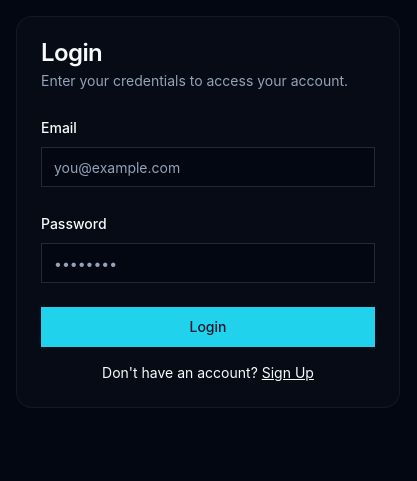
Test: Login Page › displays validation errors for empty fields
Click the button "Login": (208, 327) [41,307,375,347]
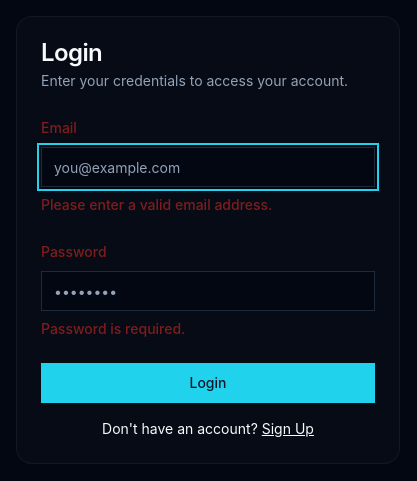
Now the text "Please enter a valid email address." is shown, box [41,196,272,213]
Now the text "Password is required." is shown, box [41,320,185,337]
